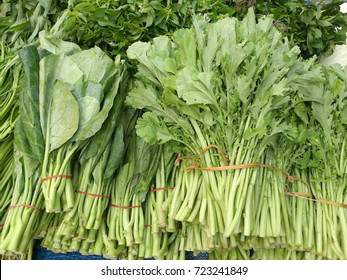Kangkung: (127, 31, 278, 239)
